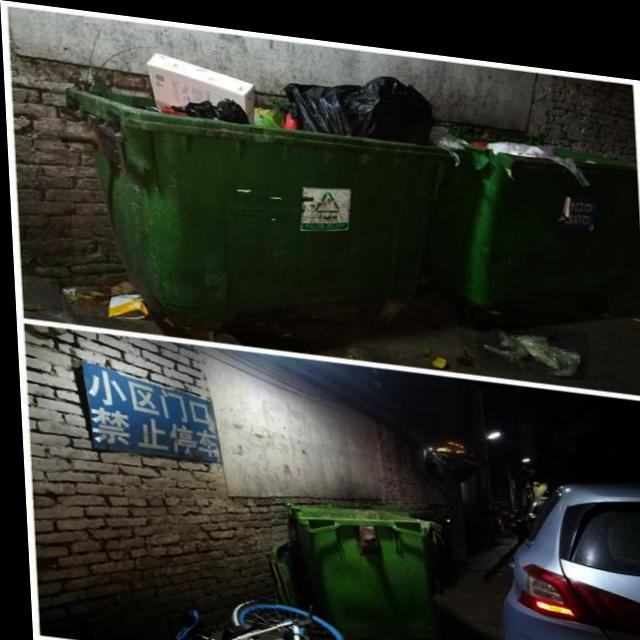garbage: (473, 308, 587, 366), (58, 270, 146, 320)
garbage_bin: (265, 486, 435, 640)
overflow: (63, 33, 458, 347), (419, 115, 640, 309)
